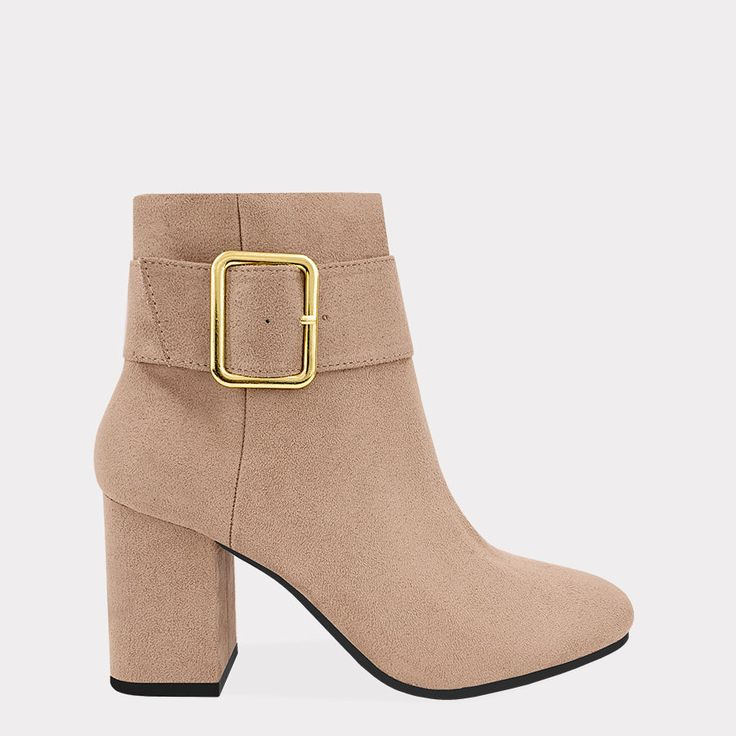gamuza: (95, 193, 634, 689)
